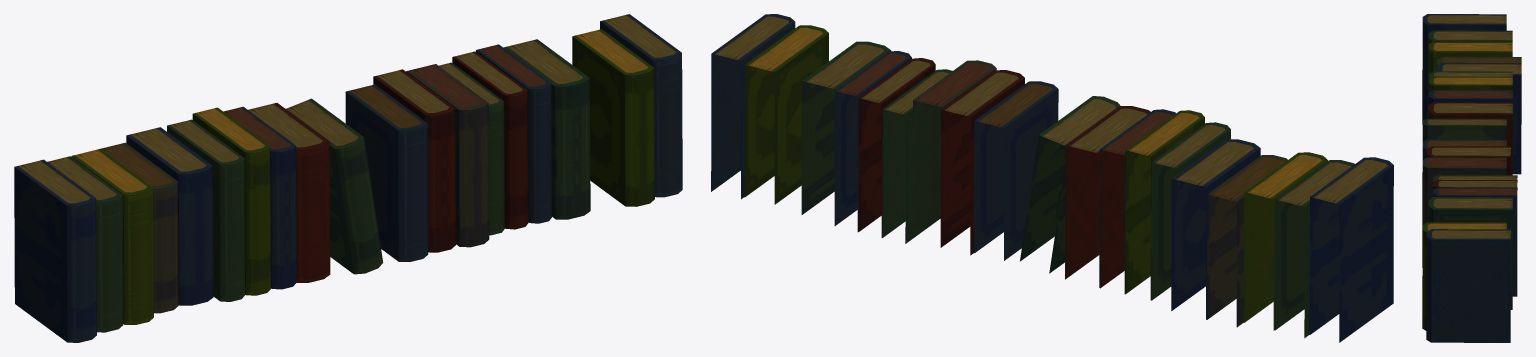
File: BookGroup_Large_1.glb
The picture shows the model from 3 angles, left to right: view 1: azimuth 30°, elevation 25°; view 2: azimuth 150°, elevation 25°; view 3: azimuth 270°, elevation 25°; orthographic projection. The views are drawn at different scales.
Visible parts, largest first — view 1: BookGroup_Large_1; view 2: BookGroup_Large_1; view 3: BookGroup_Large_1.
Part boxes in pixels (x1,y1,x2,y2): BookGroup_Large_1: (14, 14, 682, 342); BookGroup_Large_1: (711, 14, 1393, 342); BookGroup_Large_1: (1422, 14, 1521, 342).
Size of the model in its own units: 1.34 by 0.2983 by 0.2475.
1 material, 1 textured.
